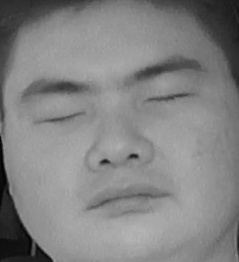blink: (140, 79, 194, 116), (33, 103, 86, 135)
mouth: (79, 172, 171, 222)
